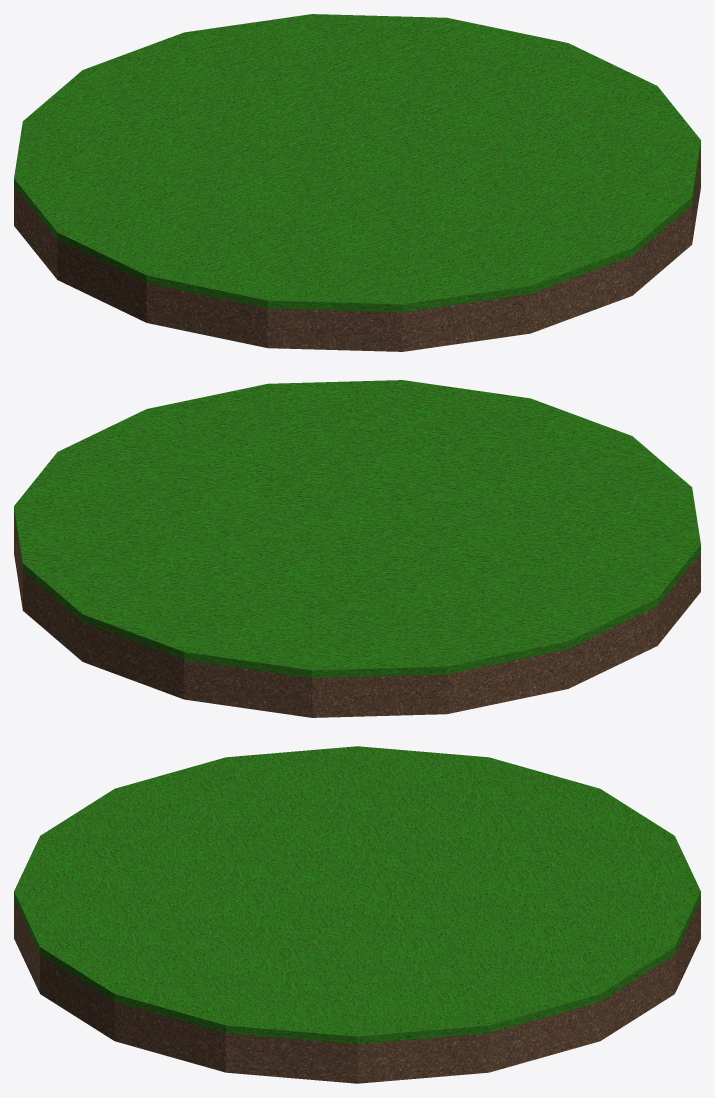
The model's file is GrassIsland.gltf.
3 renders of one model, top to bottom at view 1: azimuth 30°, elevation 25°; view 2: azimuth 150°, elevation 25°; view 3: azimuth 270°, elevation 25°, orthographic.
Visible parts, largest first — view 1: Cylinder; view 2: Cylinder; view 3: Cylinder.
Boxes of the visible parts, box(x1,y1,x2,y2) form: Cylinder: box(14, 14, 700, 351); Cylinder: box(14, 380, 700, 717); Cylinder: box(14, 746, 700, 1083).
Bounding box in the file's own units: 39.6 × 7 × 39.6.
Materials: 3 (3 with a texture image).
